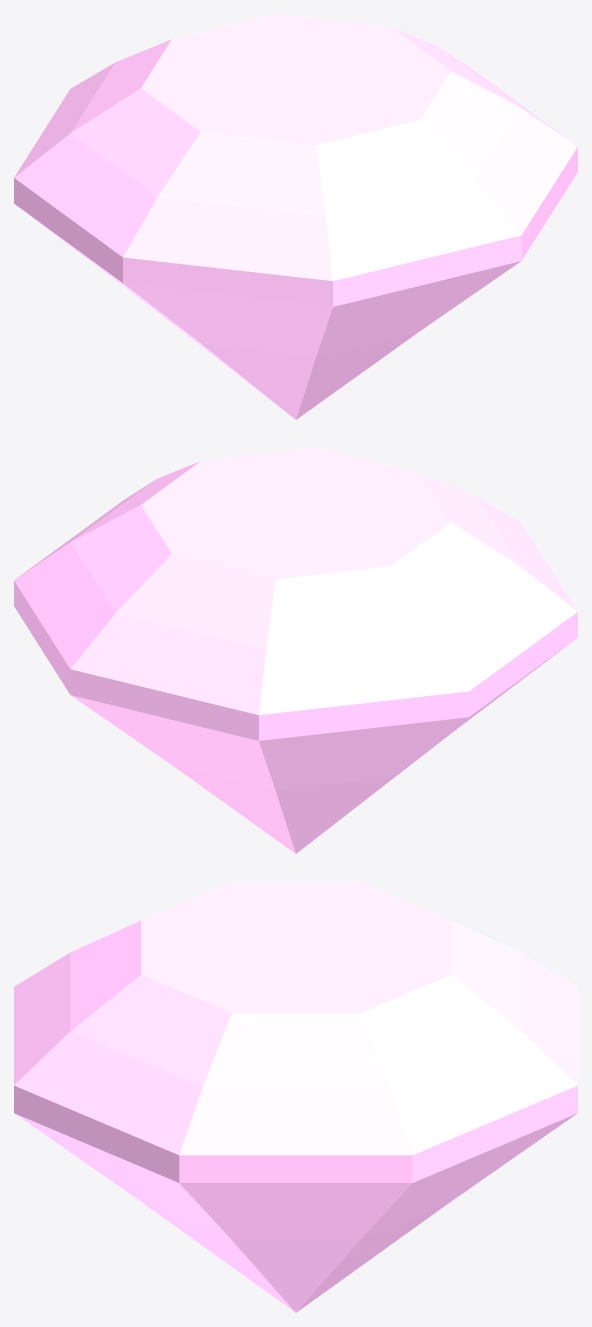
Rendered from kunzite-jewel.glb.
The picture shows the model from 3 angles, top to bottom: view 1: azimuth 30°, elevation 25°; view 2: azimuth 150°, elevation 25°; view 3: azimuth 270°, elevation 25°; orthographic projection. The views are drawn at different scales.
Parts seen in each view (by area): view 1: Kunzite; view 2: Kunzite; view 3: Kunzite.
Part boxes in pixels (box(x1,y1,x2,y2)): Kunzite: box(14, 14, 577, 419); Kunzite: box(14, 448, 577, 853); Kunzite: box(14, 882, 577, 1312).
Bounding box in the file's own units: 1.85 × 1.32 × 1.85.
